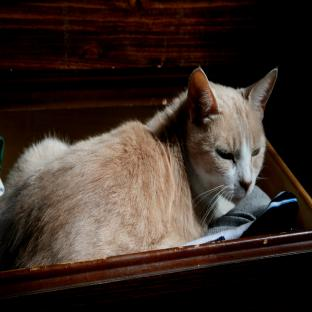Animal: (0, 68, 277, 269)
